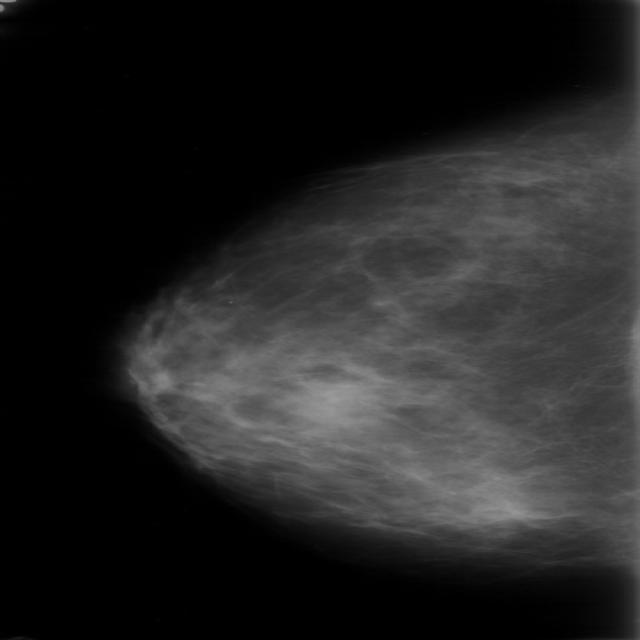tumour: (294, 378, 378, 422)
